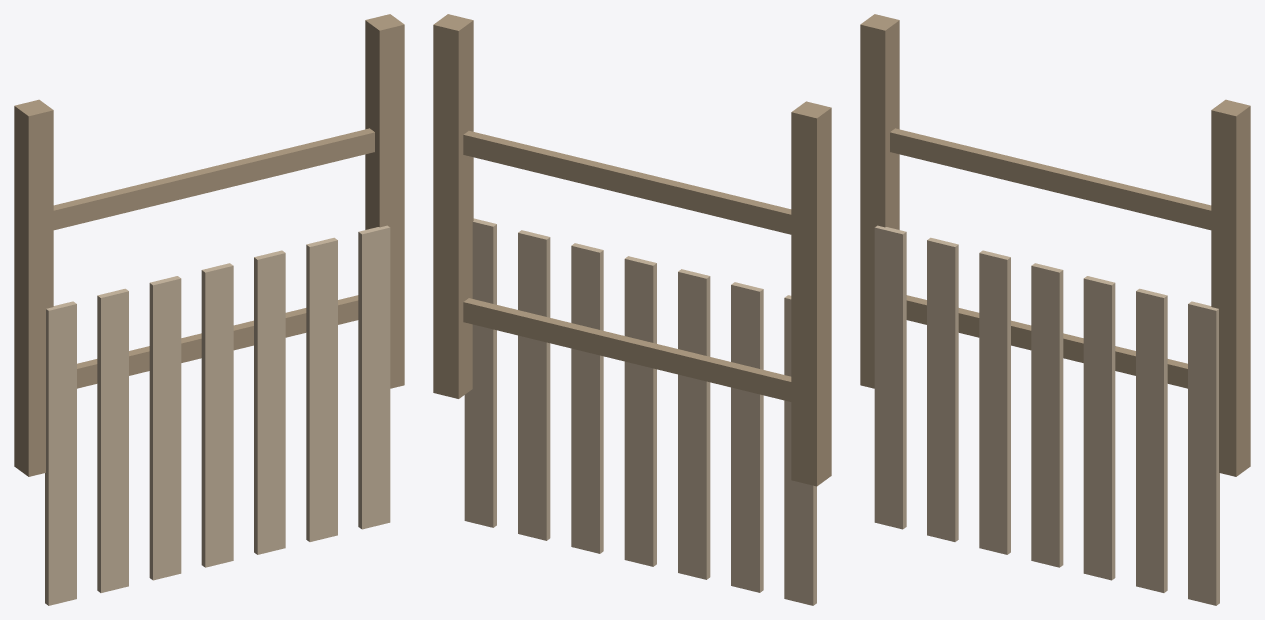
The model's file is fence.glb.
The picture shows the model from 3 angles, left to right: view 1: azimuth 30°, elevation 25°; view 2: azimuth 150°, elevation 25°; view 3: azimuth 330°, elevation 25°; orthographic projection. The views are drawn at different scales.
Parts seen in each view (by area): view 1: post_0, post_1, picket_2, picket_3, picket_6, picket_1, picket_4, picket_5, picket_0, rail_0, rail_1; view 2: post_0, post_1, picket_1, picket_4, picket_5, picket_2, picket_3, rail_0, rail_1, picket_6, picket_0; view 3: post_1, post_0, picket_4, picket_3, picket_0, picket_2, picket_5, picket_1, picket_6, rail_0, rail_1.
Part boxes in pixels (x1,y1,x2,y2): post_0: (14, 99, 53, 476); post_1: (365, 14, 404, 388); picket_2: (149, 276, 181, 580); picket_3: (201, 263, 233, 567); picket_6: (358, 225, 390, 529); picket_1: (97, 288, 128, 592); picket_4: (254, 250, 285, 554); picket_5: (306, 237, 337, 541); picket_0: (45, 301, 76, 605); rail_0: (18, 128, 374, 236); rail_1: (18, 295, 358, 400); post_0: (791, 101, 831, 486); post_1: (433, 14, 473, 398); picket_1: (731, 282, 763, 592); picket_4: (571, 243, 603, 553); picket_5: (518, 230, 550, 540); picket_2: (678, 269, 710, 579); picket_3: (624, 256, 656, 566); rail_0: (463, 131, 826, 241); rail_1: (463, 298, 825, 408); picket_6: (464, 218, 496, 527); picket_0: (784, 295, 816, 605); post_1: (1211, 99, 1250, 476); post_0: (860, 14, 899, 388); picket_4: (1083, 276, 1115, 580); picket_3: (1031, 263, 1063, 567); picket_0: (874, 225, 906, 529); picket_2: (979, 250, 1010, 554); picket_5: (1136, 288, 1167, 592); picket_1: (927, 237, 958, 541); picket_6: (1188, 301, 1219, 605); rail_0: (890, 128, 1245, 237); rail_1: (906, 295, 1245, 400).
Bounding box in the file's own units: 1.2 × 1.5 × 0.095.
